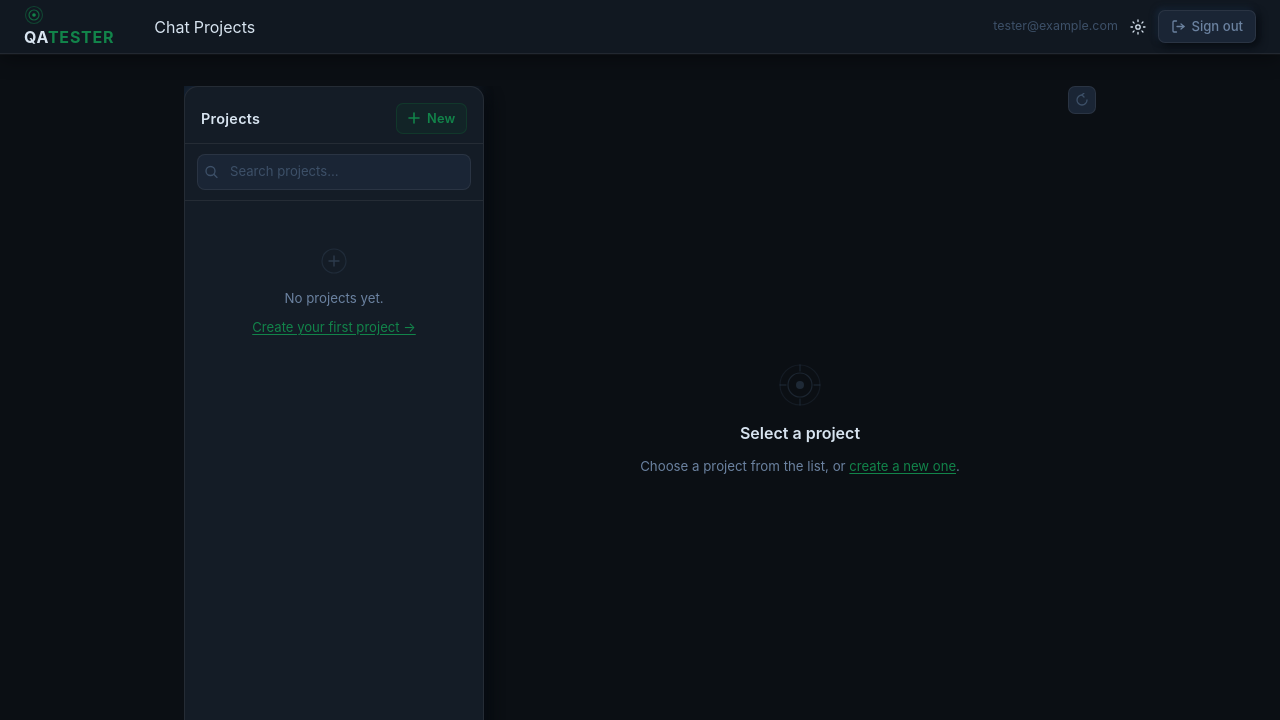
Scenario: Create project with a valid URL › closes the form and selects the new project after successful creation
Expected: the text "No projects yet." is shown, [284, 289, 384, 308]
Click the button with aria-label "create new project" at (432, 118), box [396, 103, 467, 134]
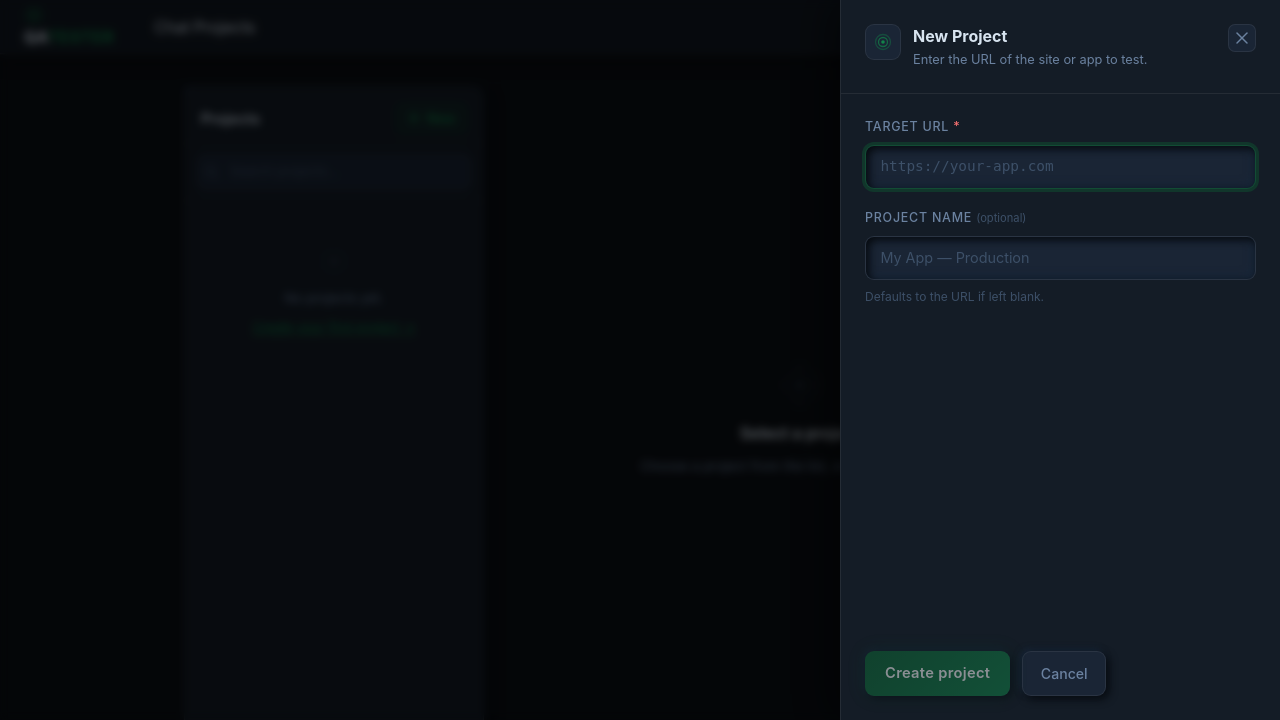
Type "https://example.com" into the field labelled "Target URL *" at (1060, 167), box [865, 144, 1256, 189]
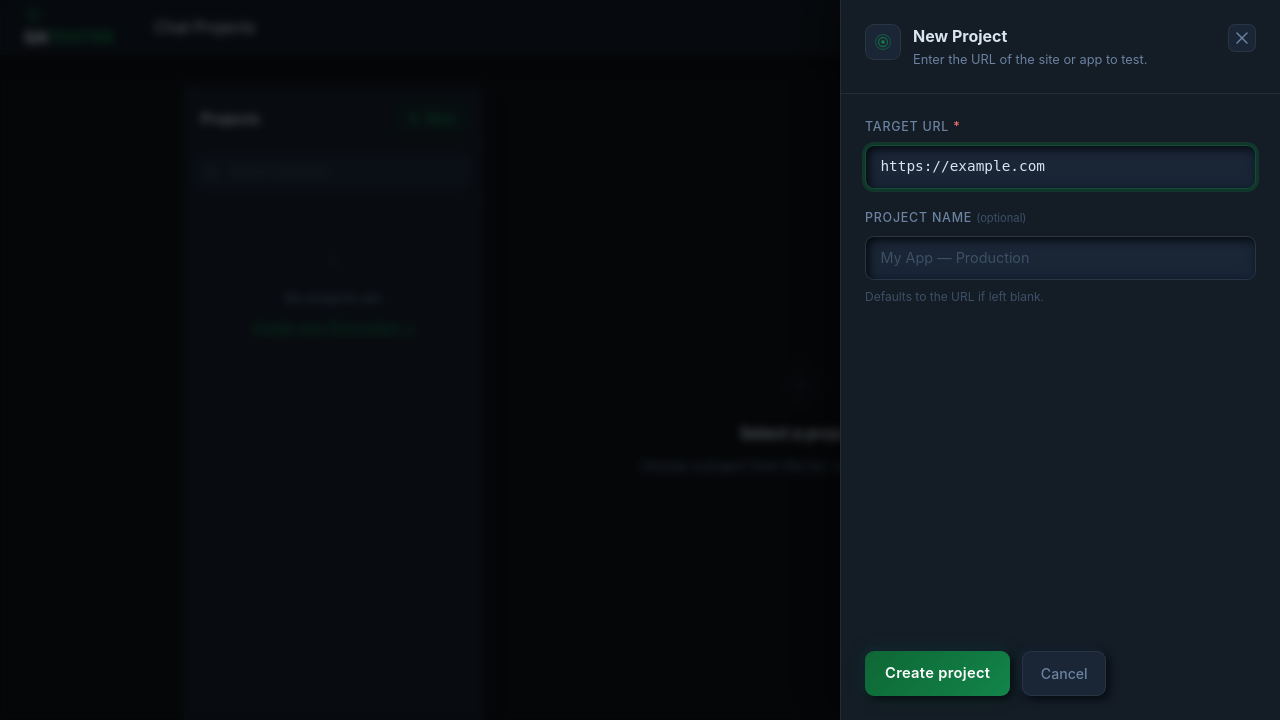
Click the button "Create project" at (938, 673), box [865, 650, 1010, 696]
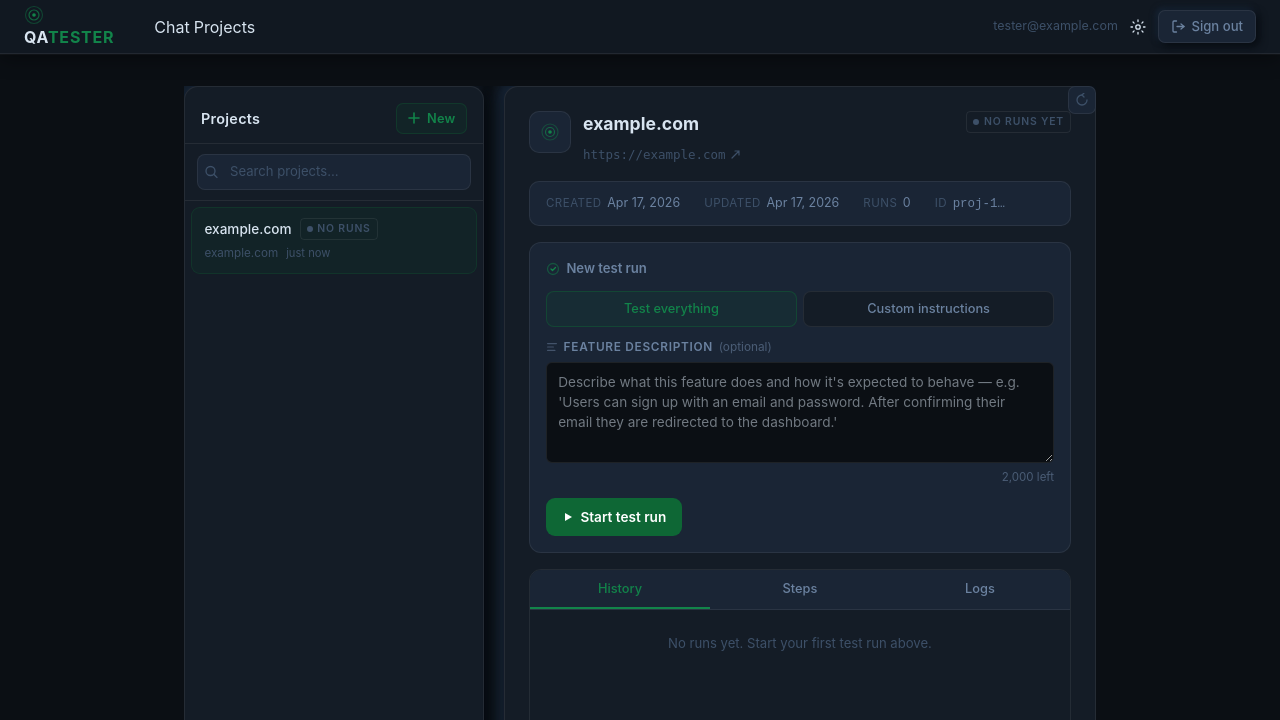
Expected: the button "Create project" is gone
